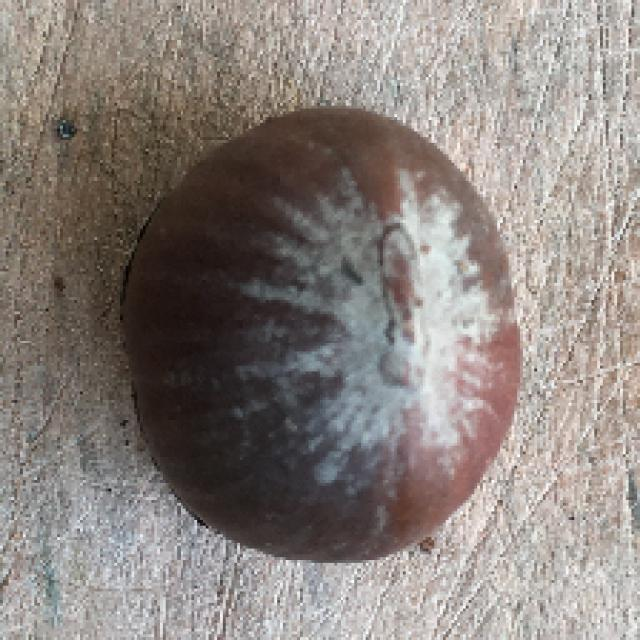damagedHazelnut: (110, 104, 551, 575)
